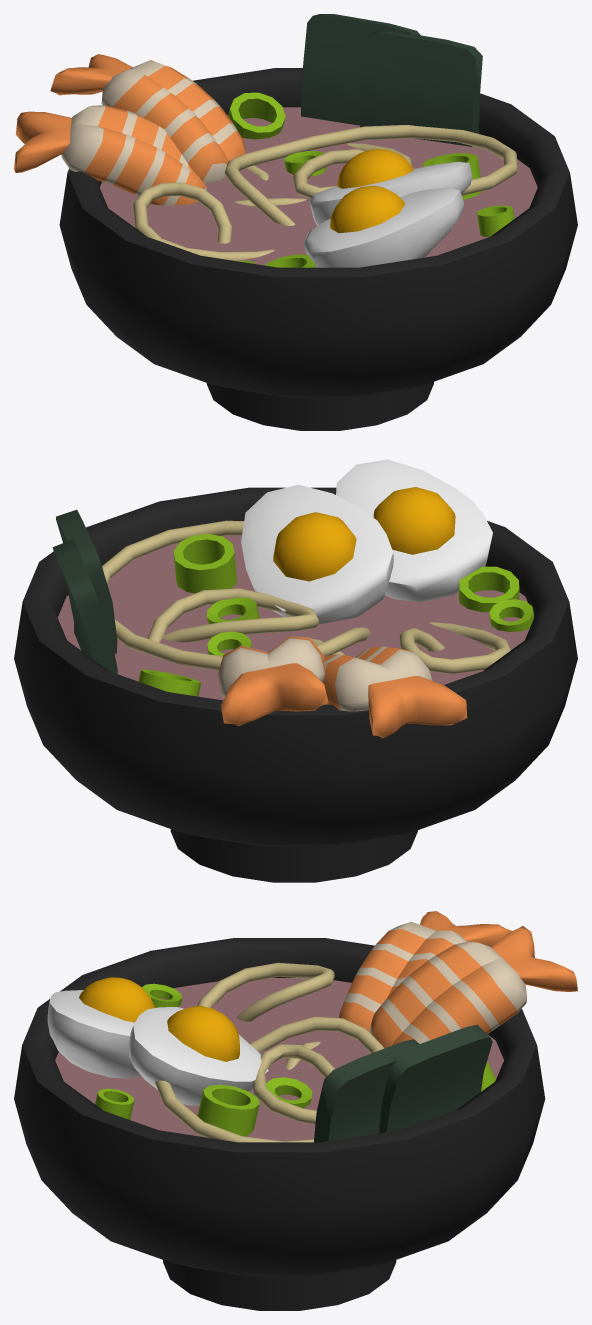
The model's file is sushi-Food_Ramen.glb.
3 views of the same model, one above another, from view 1: azimuth 30°, elevation 25°; view 2: azimuth 150°, elevation 25°; view 3: azimuth 270°, elevation 25° (orthographic). The views are drawn at different scales.
Parts seen in each view (by area): view 1: Food_Ramen; view 2: Food_Ramen; view 3: Food_Ramen.
Boxes of the visible parts, left/top/right/bottom form: Food_Ramen: left=14, top=14, right=577, bottom=430; Food_Ramen: left=14, top=459, right=577, bottom=882; Food_Ramen: left=14, top=911, right=577, bottom=1310.
Bounding box in the file's own units: 0.9933 × 0.5834 × 1.05.
1 material, 1 textured.
